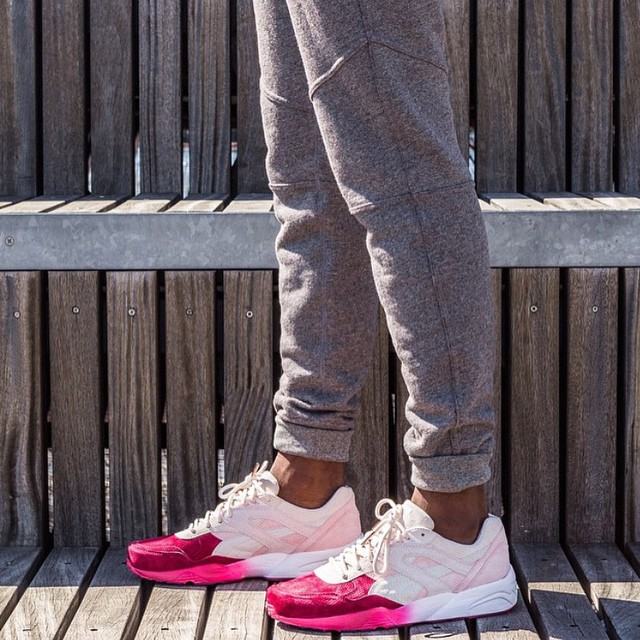sneaker: (256, 468, 537, 640), (117, 439, 385, 600)
